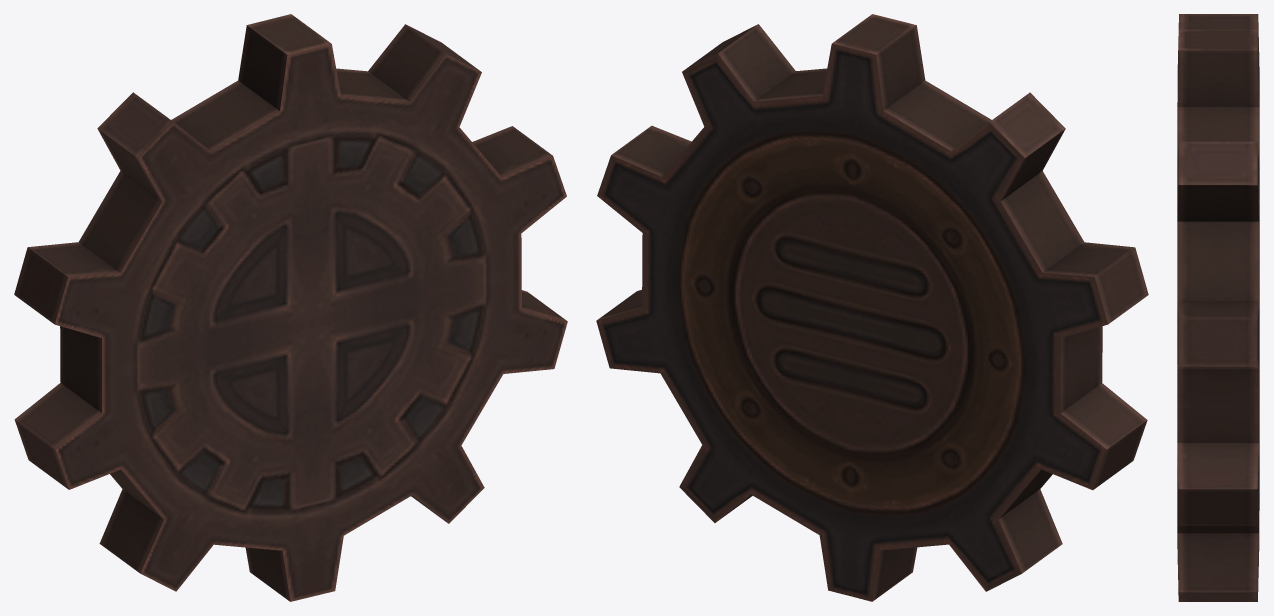
Rendered from sn_jixie_chilun_001.FBX.
The picture shows the model from 3 angles, left to right: view 1: azimuth 30°, elevation 25°; view 2: azimuth 150°, elevation 25°; view 3: azimuth 270°, elevation 25°; orthographic projection. The views are drawn at different scales.
Parts seen in each view (by area): view 1: sn_jixie_chilun_001; view 2: sn_jixie_chilun_001; view 3: sn_jixie_chilun_001.
Boxes of the visible parts, <box> form: sn_jixie_chilun_001: <box>14,14,567,601</box>; sn_jixie_chilun_001: <box>596,14,1148,601</box>; sn_jixie_chilun_001: <box>1177,14,1259,601</box>.
Size of the model in its own units: 6.32 by 0.9047 by 6.46.
